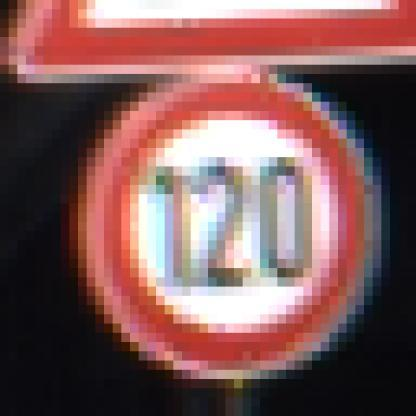Speed Limit -120-: (92, 74, 371, 371)
